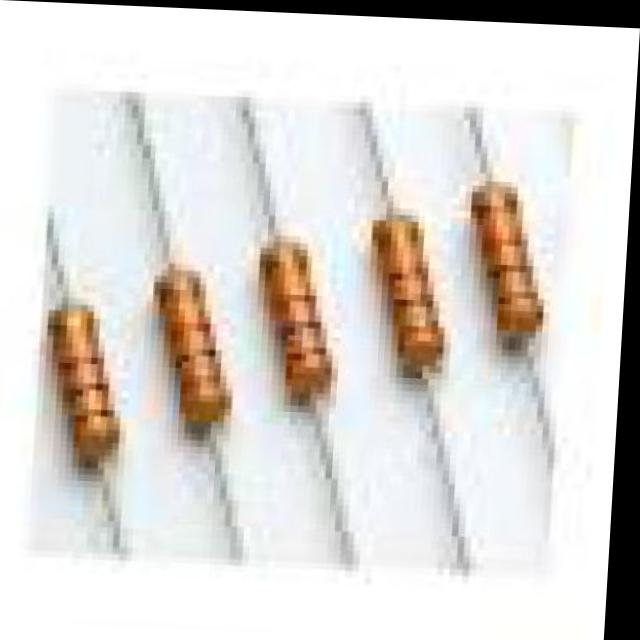Capacitor: (471, 175, 546, 343), (263, 230, 335, 401), (51, 306, 124, 474), (162, 264, 235, 426), (377, 215, 450, 374)
